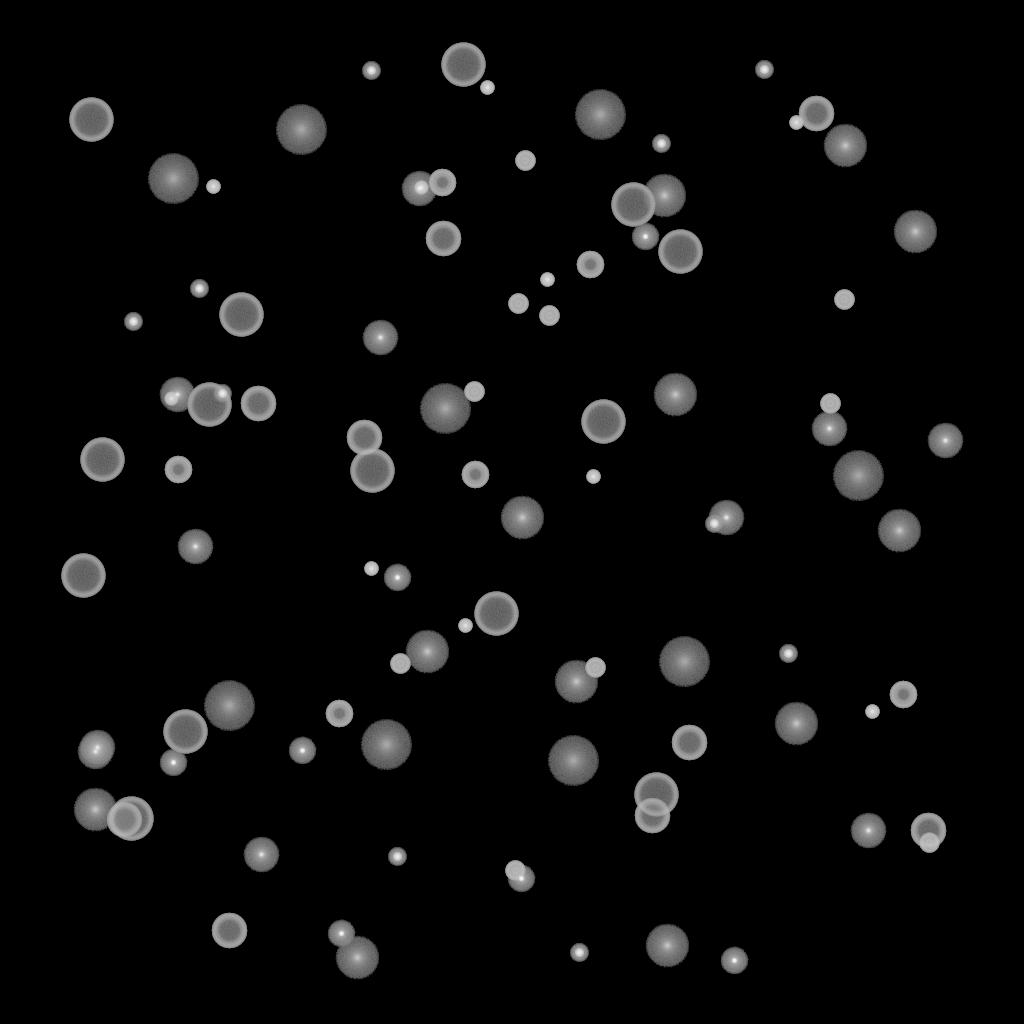depth:-10: (507, 865, 535, 893), (720, 947, 748, 975), (383, 564, 411, 592), (159, 749, 187, 777), (327, 920, 355, 948), (631, 223, 659, 251), (288, 737, 316, 765)
depth:-20: (570, 944, 588, 962), (124, 313, 142, 331), (705, 515, 723, 533), (388, 848, 406, 866), (755, 61, 773, 79), (652, 135, 670, 153), (779, 645, 797, 663), (213, 385, 231, 403), (190, 280, 208, 298), (362, 62, 380, 80)
depth:-30: (206, 180, 220, 194), (364, 562, 378, 576), (480, 81, 494, 95), (164, 392, 178, 406), (865, 705, 879, 719), (458, 619, 472, 633), (540, 273, 554, 287), (789, 116, 803, 130), (414, 181, 428, 195), (586, 470, 600, 484)
depth:-40: (505, 861, 525, 881), (919, 833, 939, 853), (585, 658, 605, 678), (508, 294, 528, 314), (820, 394, 840, 414), (834, 290, 854, 310), (390, 654, 410, 674), (515, 151, 535, 171), (539, 306, 559, 326), (464, 382, 484, 402)
depth:-50: (889, 681, 917, 709), (428, 169, 456, 197), (461, 461, 489, 489), (164, 456, 192, 484), (576, 251, 604, 279), (325, 700, 353, 728)
depth:-60: (798, 96, 834, 132), (671, 725, 707, 761), (240, 386, 276, 422), (106, 802, 142, 838), (346, 420, 382, 456), (211, 913, 247, 949), (425, 221, 461, 257), (910, 813, 946, 849), (634, 798, 670, 834)
depth:-70: (109, 797, 153, 841), (350, 449, 394, 493), (581, 400, 625, 444), (187, 383, 231, 427), (474, 592, 518, 636), (69, 98, 113, 142), (658, 230, 702, 274), (611, 183, 655, 227), (441, 43, 485, 87), (80, 438, 124, 482), (163, 710, 207, 754), (219, 293, 263, 337), (634, 773, 678, 817), (61, 554, 105, 598)
depth:0: (159, 377, 195, 413), (77, 734, 113, 770), (362, 320, 398, 356), (850, 813, 886, 849), (708, 500, 744, 536), (243, 837, 279, 873), (401, 171, 437, 207), (177, 529, 213, 565), (79, 730, 115, 766), (811, 411, 847, 447), (927, 423, 963, 459)
depth:10: (823, 124, 867, 168), (774, 702, 818, 746), (405, 630, 449, 674), (645, 924, 689, 968), (893, 210, 937, 254), (335, 936, 379, 980), (877, 509, 921, 553), (642, 174, 686, 218), (653, 373, 697, 417), (554, 660, 598, 704), (73, 788, 117, 832), (500, 496, 544, 540)
depth:20: (203, 681, 255, 731), (547, 736, 599, 786), (360, 720, 412, 770), (574, 90, 626, 140), (275, 105, 327, 155), (147, 154, 199, 204), (832, 451, 884, 501), (419, 384, 471, 434), (658, 637, 710, 687)
